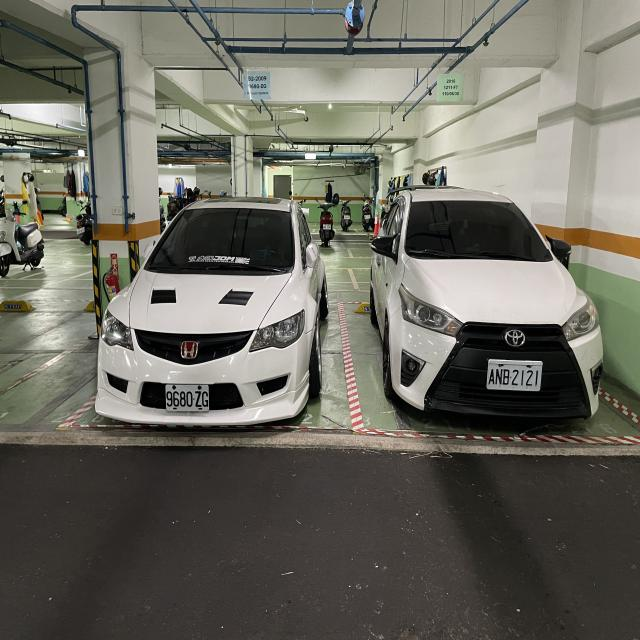license-plate: (485, 357, 543, 392), (164, 383, 210, 413), (323, 224, 331, 230), (344, 215, 350, 220), (364, 215, 371, 219)
